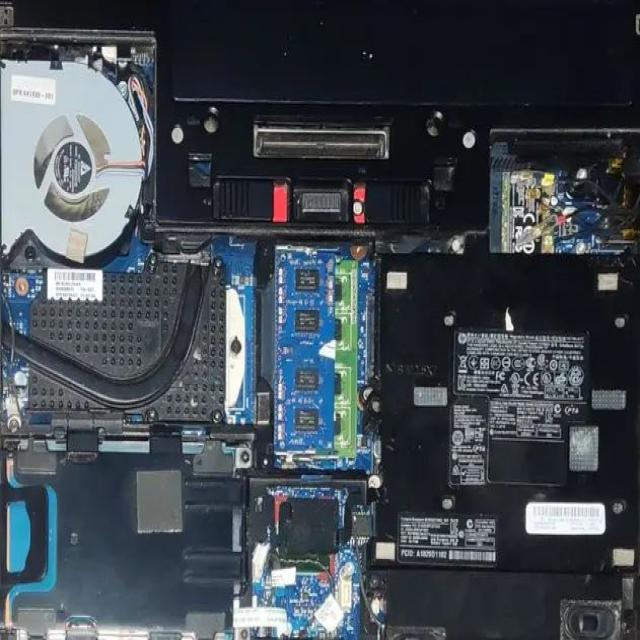electronic: (1, 2, 638, 637)
